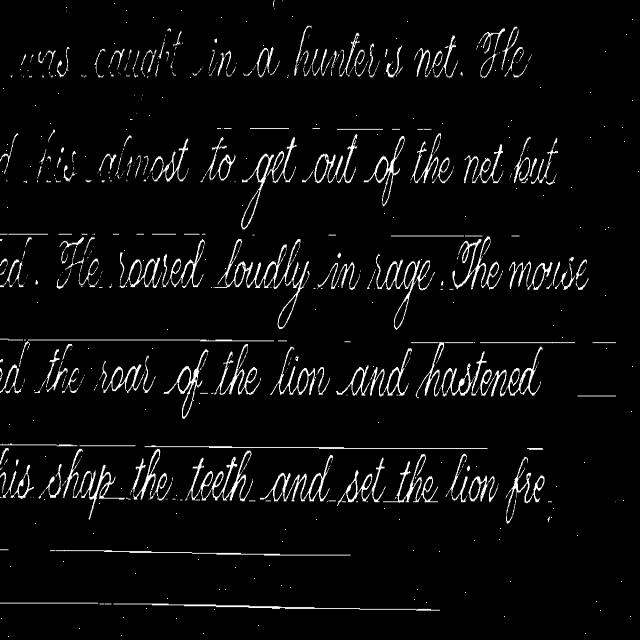noise: (0, 600, 440, 613), (47, 548, 351, 559), (144, 444, 489, 452), (28, 338, 288, 344), (410, 340, 576, 349), (244, 126, 438, 133), (0, 443, 136, 451), (591, 330, 618, 354), (150, 231, 206, 236), (526, 438, 544, 453), (344, 333, 354, 347), (216, 126, 236, 132), (0, 544, 13, 553), (390, 235, 482, 236), (26, 233, 48, 236), (58, 233, 72, 236), (250, 231, 256, 236), (328, 233, 336, 236), (136, 233, 143, 236), (160, 233, 166, 236), (112, 233, 118, 236), (81, 233, 86, 236), (510, 235, 520, 236), (189, 233, 199, 234), (10, 75, 13, 78)
not-noise: (22, 134, 457, 228), (78, 33, 532, 78), (317, 254, 436, 329), (0, 444, 119, 518), (218, 238, 310, 329), (450, 237, 588, 291), (418, 343, 542, 396), (460, 137, 558, 186), (120, 238, 205, 288), (337, 348, 411, 396), (184, 450, 253, 500), (260, 454, 333, 501), (165, 349, 208, 418), (271, 347, 330, 395), (477, 26, 531, 77), (121, 449, 173, 500), (446, 453, 498, 502), (506, 456, 544, 523), (34, 343, 84, 393), (56, 235, 102, 288), (214, 344, 261, 395), (0, 340, 43, 394), (96, 356, 154, 393), (338, 458, 385, 503), (396, 453, 438, 502), (0, 448, 34, 499), (0, 234, 32, 287), (20, 47, 72, 76), (201, 136, 234, 181), (294, 26, 311, 75), (0, 133, 18, 173), (116, 135, 132, 179), (281, 136, 296, 177), (6, 260, 22, 286), (37, 147, 47, 181), (347, 133, 357, 164), (48, 130, 54, 144), (338, 253, 342, 259), (286, 177, 291, 181), (36, 279, 38, 284), (168, 28, 171, 31)
